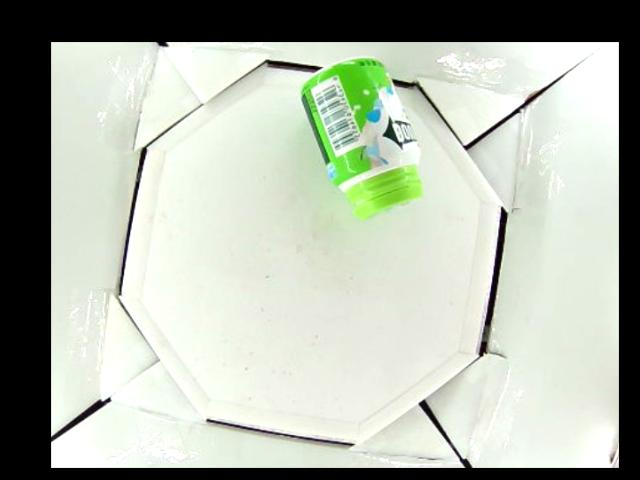Bottle: (300, 58, 421, 220)
